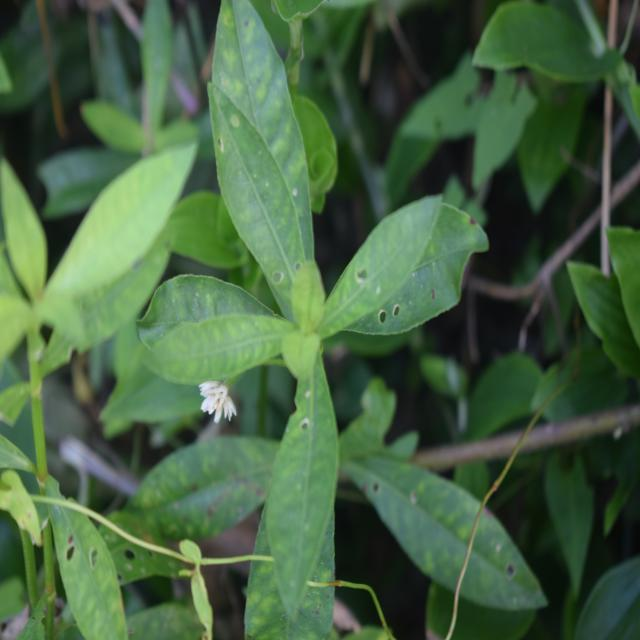Alligatorweed: (178, 20, 459, 584)
